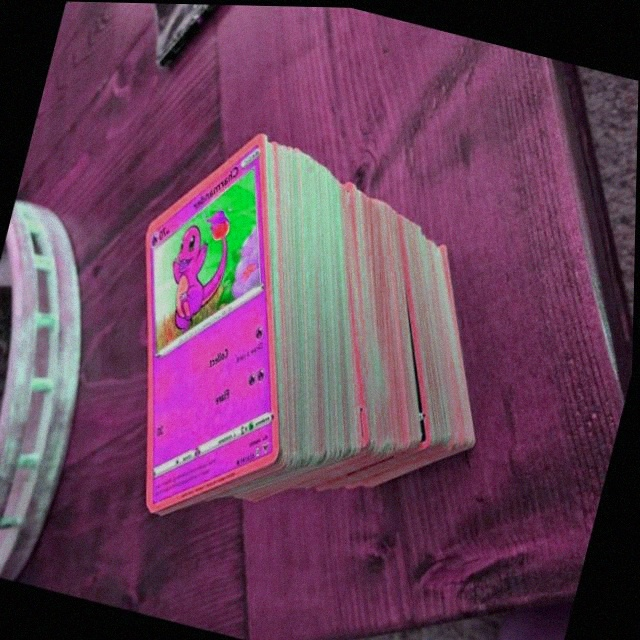card: (146, 131, 282, 512)
